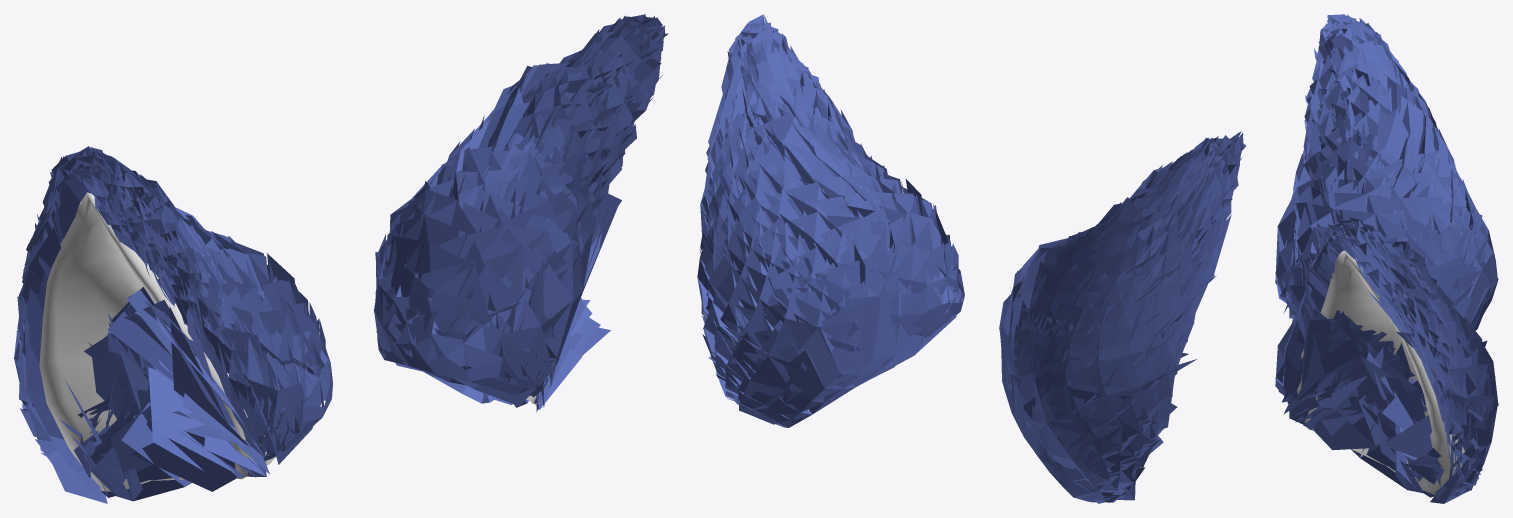
The model's file is SM_Ears_Fur_1.fbx.
3 renders of one model, left to right at view 1: azimuth 30°, elevation 25°; view 2: azimuth 150°, elevation 25°; view 3: azimuth 270°, elevation 25°, orthographic. The views are drawn at different scales.
Parts seen in each view (by area): view 1: Ears_4_Fur; view 2: Ears_4_Fur; view 3: Ears_4_Fur.
Part boxes in pixels (bbox=[...]): Ears_4_Fur: bbox=[14, 14, 668, 503]; Ears_4_Fur: bbox=[697, 15, 1245, 503]; Ears_4_Fur: bbox=[1275, 14, 1498, 503].
Bounding box in the file's own units: 17.96 × 11.65 × 7.63.
